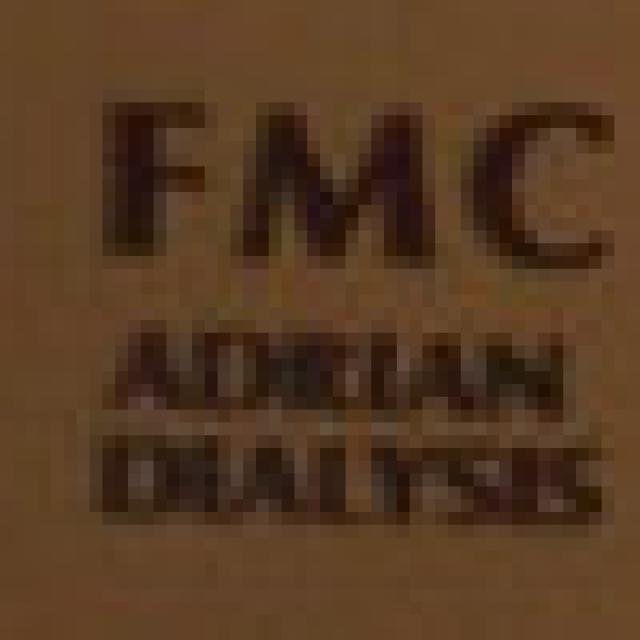no_fire: (66, 43, 640, 588)
